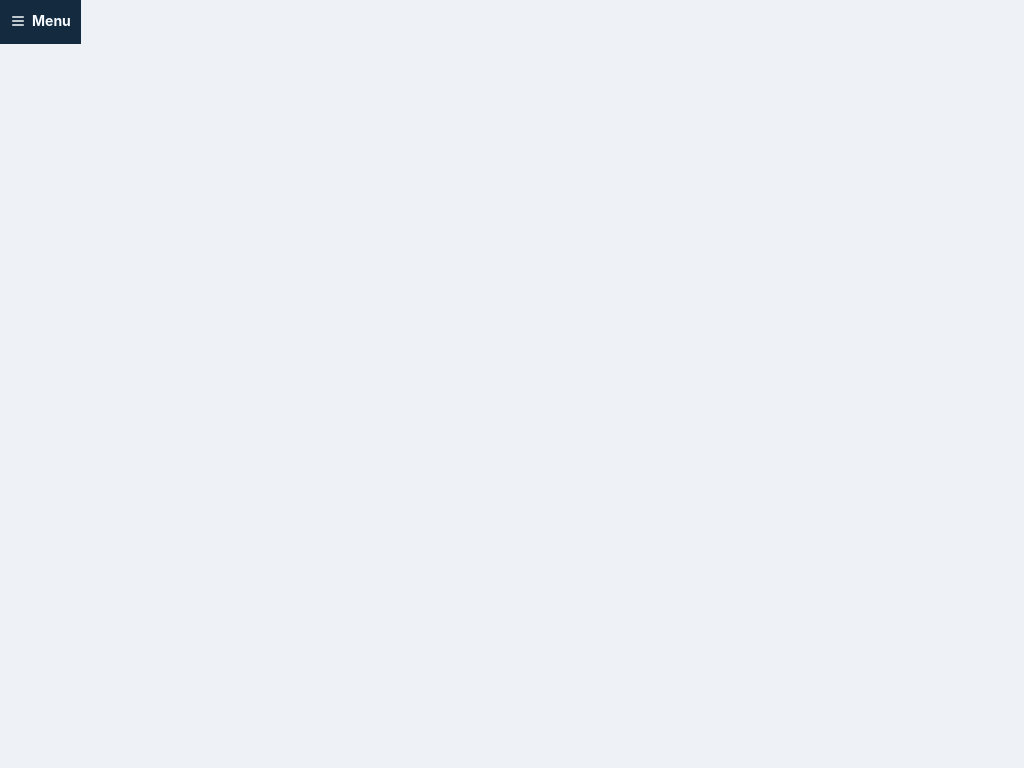
Test case: AdminGlobalNav information architecture › opens and closes the mobile drawer and restores focus
This screenshot has width=1024, height=768.
Click the button with aria-label "Open admin navigation" at (40, 22), box [0,0,81,44]
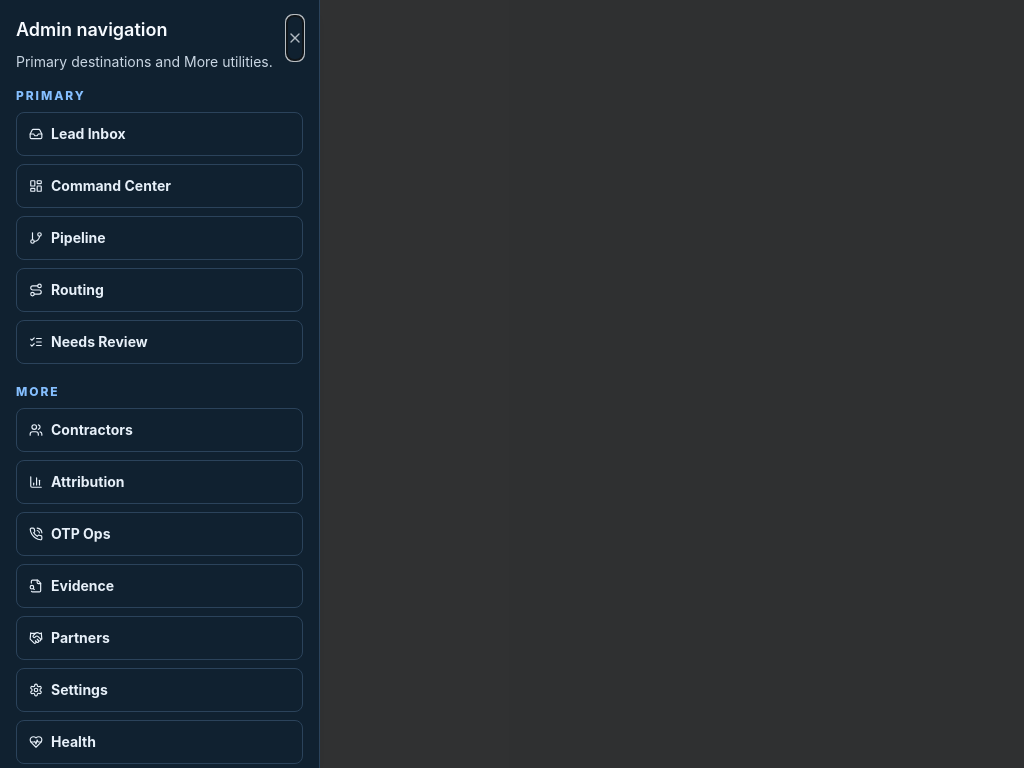
Now the link "Lead Inbox" is shown, box [16,112,303,156]
Press Escape in the dialog with test id "admin-mobile-drawer", box [0,0,320,767]
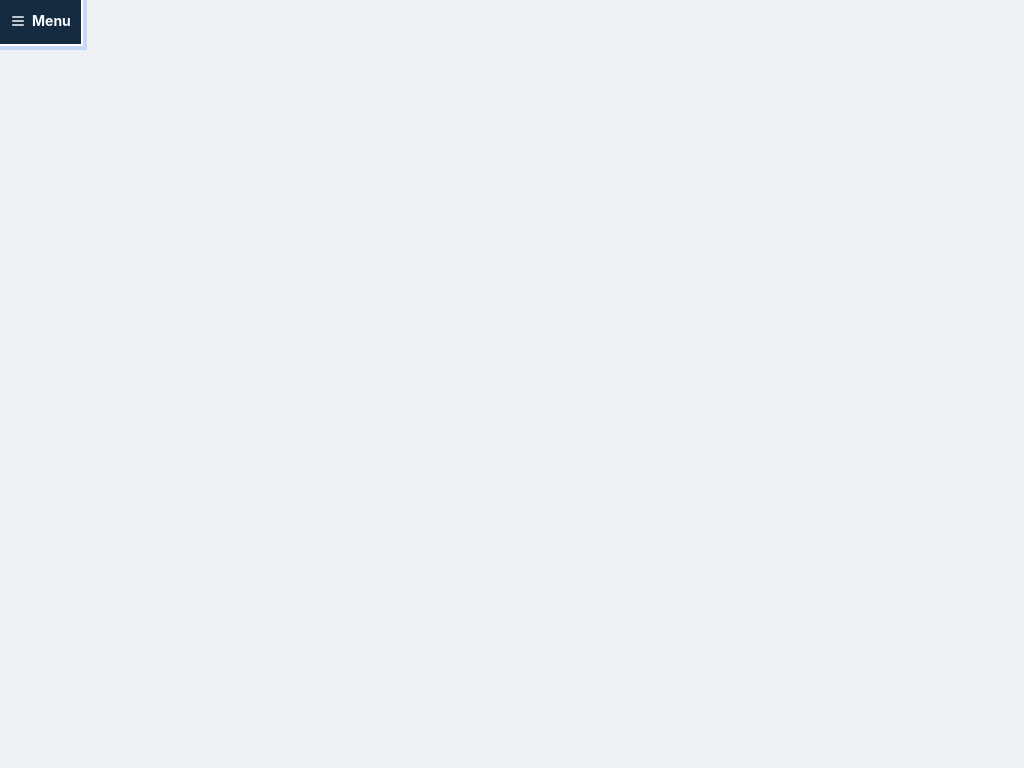
Now the dialog with test id "admin-mobile-drawer" is gone
